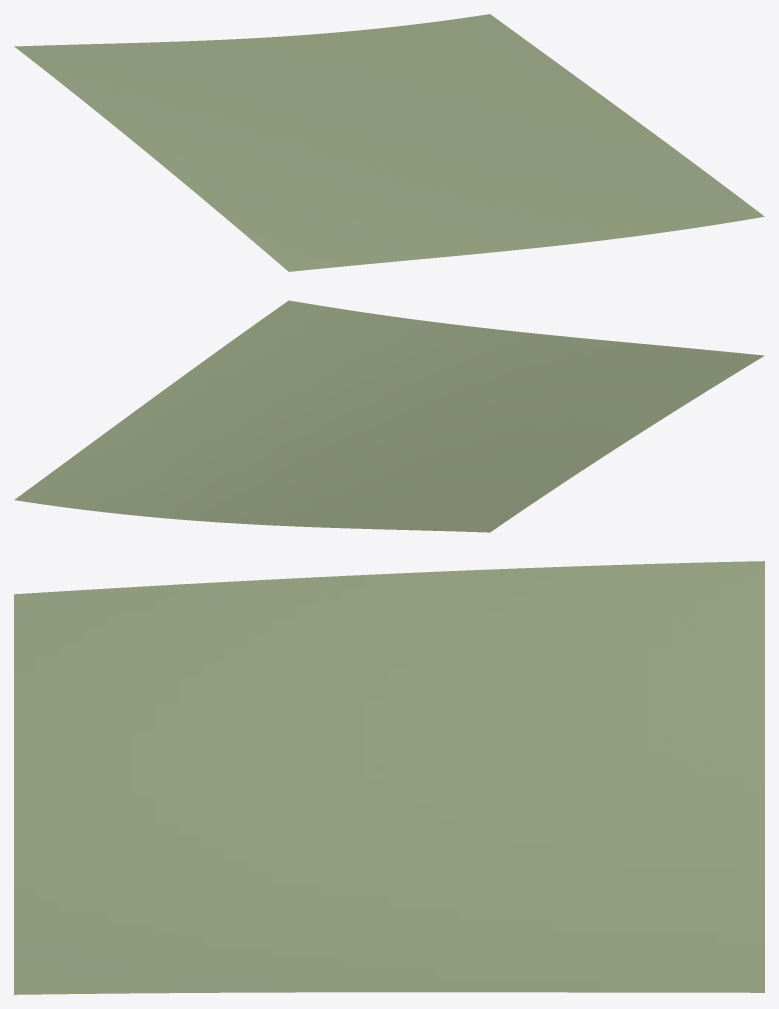
Rendered from expanse-18-18.glb.
3 renders of one model, top to bottom at view 1: azimuth 30°, elevation 25°; view 2: azimuth 150°, elevation 25°; view 3: azimuth 270°, elevation 25°, orthographic. The views are drawn at different scales.
Visible parts, largest first — view 1: expanse-18-18; view 2: expanse-18-18; view 3: expanse-18-18.
Boxes of the visible parts, box(x1,y1,x2,y2) form: expanse-18-18: box(14, 14, 764, 271); expanse-18-18: box(14, 300, 764, 532); expanse-18-18: box(14, 561, 764, 994).
Bounding box in the file's own units: 256 × 43.77 × 256.
